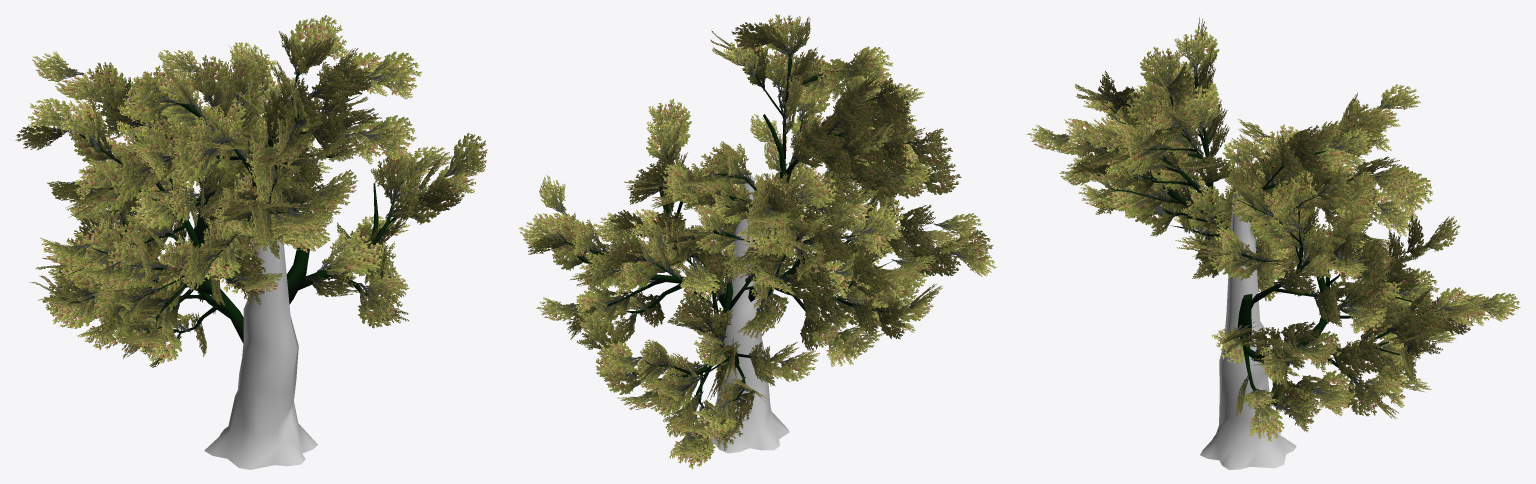
The model's file is tree6_4_afsTREE_xlprl_LOD1.fbx.
The picture shows the model from 3 angles, left to right: view 1: azimuth 30°, elevation 25°; view 2: azimuth 150°, elevation 25°; view 3: azimuth 270°, elevation 25°; orthographic projection. The views are drawn at different scales.
Parts seen in each view (by area): view 1: branch_xw15_xt10_xp20, leaf.140, leaf.001, leaf.135, leaf.235, leaf.022, leaf.015, leaf.320, leaf.250, leaf.136, leaf.255, leaf.229 (+43 smaller); view 2: branch_xw15_xt10_xp20, leaf.330, leaf.074, leaf.029, leaf.100, leaf1.255, leaf1.325, leaf.150, leaf.188, leaf.034, leaf.351, leaf.261 (+20 smaller); view 3: branch_xw15_xt10_xp20, leaf.234, leaf.049, leaf.239, leaf.086, leaf.292, leaf.005, leaf.143, leaf.066, leaf.045, leaf.040, leaf.160 (+19 smaller).
Boxes of the visible parts, x1,y1,x2,y2 form: branch_xw15_xt10_xp20: [204, 165, 317, 469]; leaf.140: [365, 51, 422, 97]; leaf.001: [358, 284, 405, 328]; leaf.135: [360, 115, 416, 159]; leaf.235: [125, 71, 176, 122]; leaf.022: [317, 231, 367, 280]; leaf.015: [443, 133, 485, 176]; leaf.320: [130, 186, 175, 229]; leaf.250: [171, 145, 216, 189]; leaf.136: [311, 64, 356, 103]; leaf.255: [112, 157, 152, 202]; leaf.229: [26, 98, 76, 133]; branch_xw15_xt10_xp20: [707, 174, 789, 453]; leaf.330: [859, 205, 903, 238]; leaf.074: [576, 320, 621, 352]; leaf.029: [647, 115, 690, 158]; leaf.100: [681, 256, 719, 298]; leaf1.255: [907, 128, 944, 166]; leaf1.325: [796, 169, 830, 205]; leaf.150: [692, 400, 736, 430]; leaf.188: [817, 58, 860, 101]; leaf.034: [584, 251, 620, 292]; leaf.351: [781, 267, 823, 300]; leaf.261: [863, 166, 903, 198]; branch_xw15_xt10_xp20: [1200, 191, 1296, 469]; leaf.234: [1174, 28, 1219, 75]; leaf.049: [1317, 163, 1355, 209]; leaf.239: [1183, 86, 1221, 134]; leaf.086: [1347, 373, 1386, 416]; leaf.292: [1180, 186, 1224, 224]; leaf.005: [1276, 386, 1320, 431]; leaf.143: [1140, 47, 1180, 86]; leaf.066: [1332, 342, 1367, 378]; leaf.045: [1328, 127, 1376, 153]; leaf.040: [1273, 191, 1300, 234]; leaf.160: [1378, 84, 1420, 108].
Size of the model in its own units: 453 by 423 by 482.
